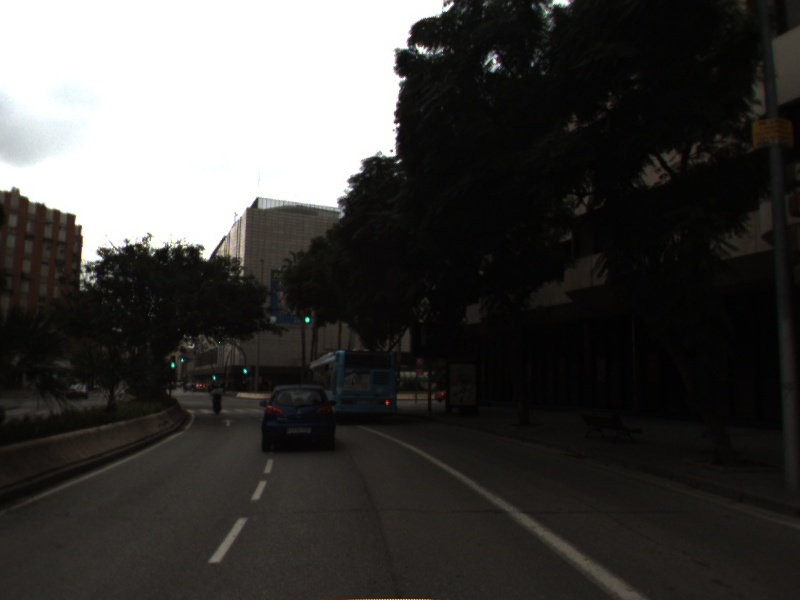STRAIGHT: (219, 417, 238, 429)
